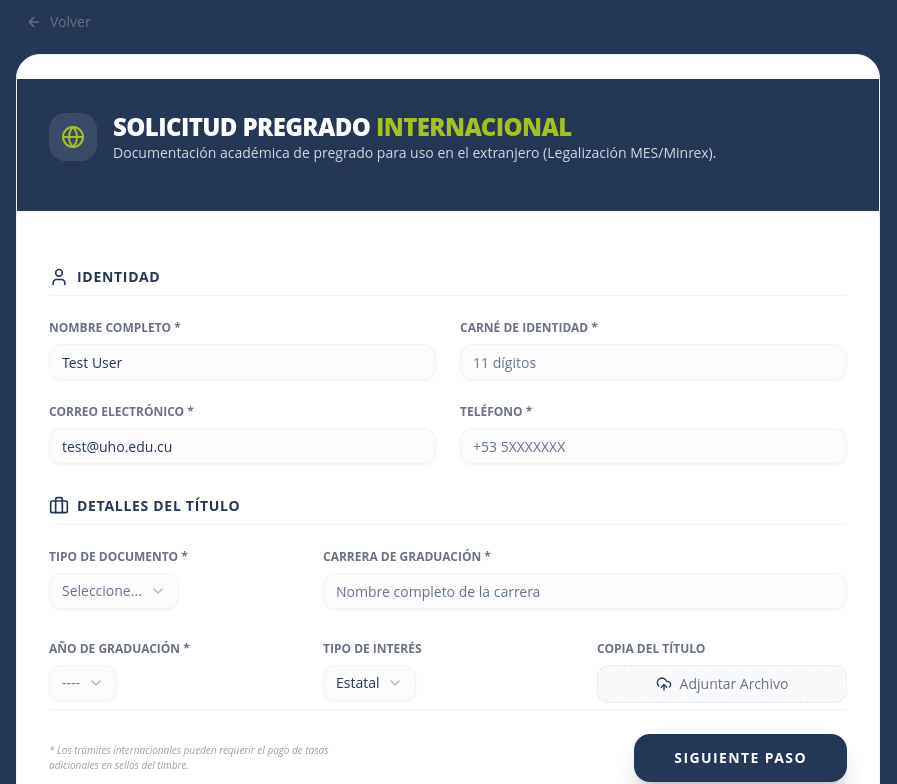
Test: UnderInterProcedure validación común › exige carné de identidad
This screenshot has width=897, height=784.
Click the button "Siguiente Paso".
click(741, 758)  # box [634,734,847,782]
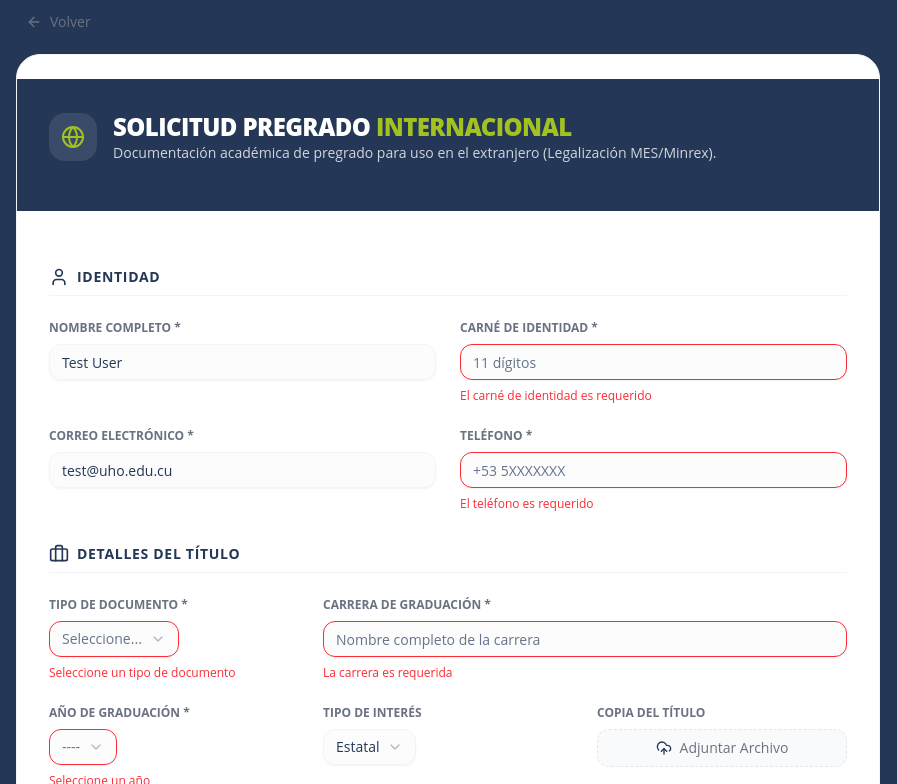
Now the text "El carné de identidad es requerido" is shown, box [460,387,652,404]
